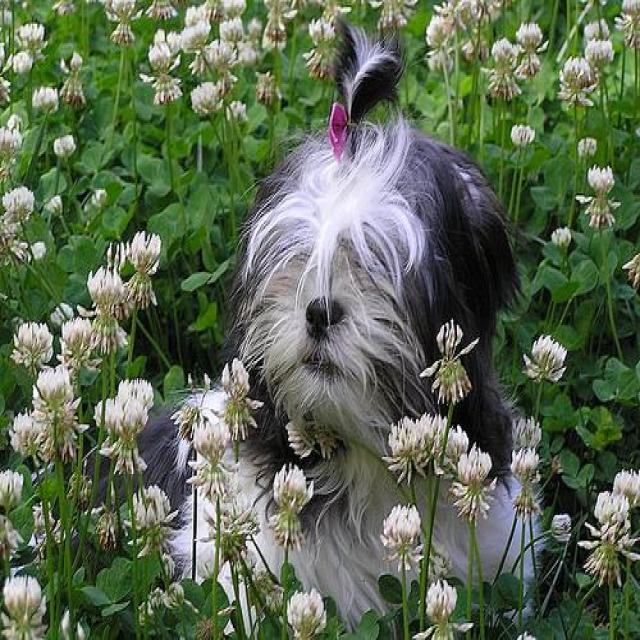shih_tzu: (70, 24, 534, 626)
